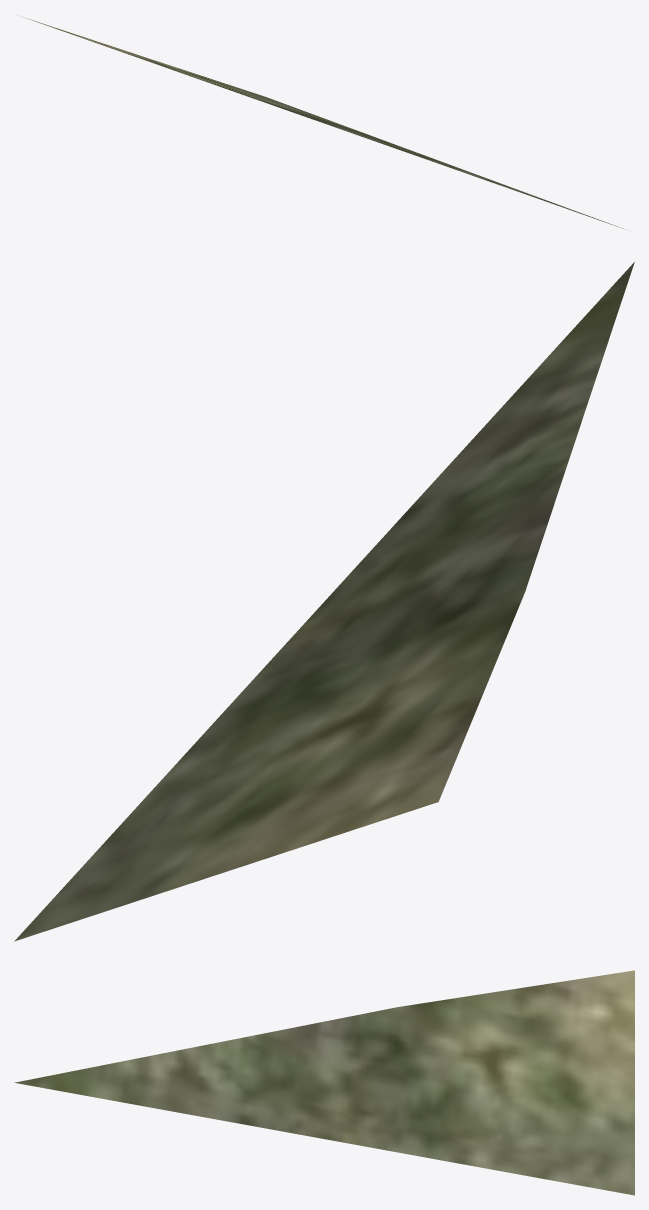
The picture shows the model from 3 angles, top to bottom: view 1: azimuth 30°, elevation 25°; view 2: azimuth 150°, elevation 25°; view 3: azimuth 270°, elevation 25°; orthographic projection. The views are drawn at different scales.
Size of the model in its own units: 0.4381 by 0.2398 by 1.11.
1 material, 1 textured.
